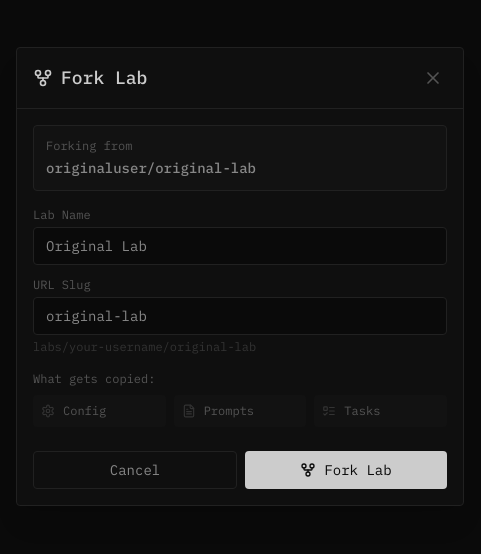
Test case: ForkDialog › shows error message on fork failure
Click the button "Fork Lab" at (346, 470), box x1=245 y1=450 x2=447 y2=488
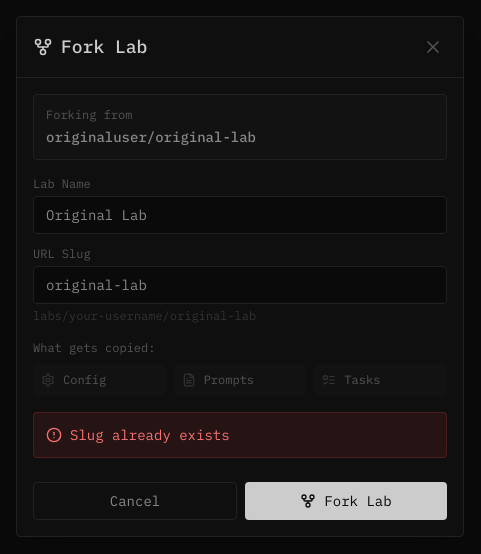
Result: the text "Slug already exists" is shown at x1=70 y1=424 x2=230 y2=444
